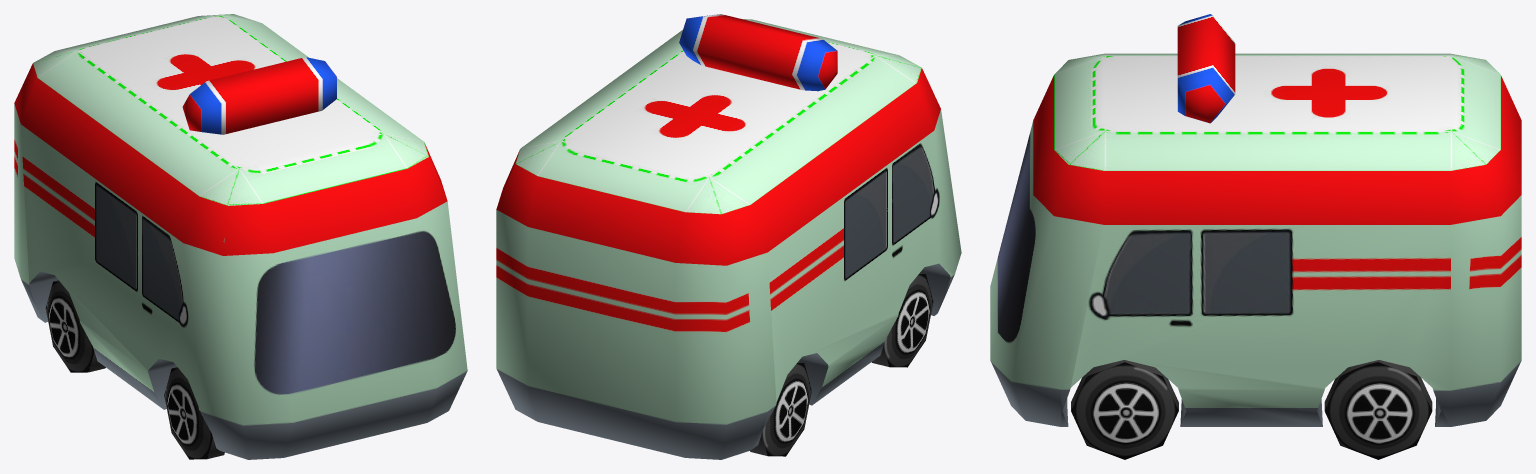
The model's file is Ambulance_001.FBX.
The picture shows the model from 3 angles, left to right: view 1: azimuth 30°, elevation 25°; view 2: azimuth 150°, elevation 25°; view 3: azimuth 270°, elevation 25°; orthographic projection. The views are drawn at different scales.
Parts seen in each view (by area): view 1: ChamferBox001, Capsule001, OilTank001, OilTank002; view 2: ChamferBox001, Capsule001, OilTank002, OilTank001; view 3: ChamferBox001, OilTank004, OilTank003, Capsule001.
Boxes of the visible parts, left/top/right/bottom form: ChamferBox001: left=14, top=14, right=467, bottom=459; Capsule001: left=182, top=57, right=336, bottom=134; OilTank001: left=164, top=367, right=224, bottom=459; OilTank002: left=45, top=280, right=105, bottom=372; ChamferBox001: left=496, top=19, right=961, bottom=459; Capsule001: left=679, top=14, right=837, bottom=91; OilTank002: left=750, top=361, right=811, bottom=456; OilTank001: left=871, top=272, right=933, bottom=367; ChamferBox001: left=990, top=53, right=1521, bottom=426; OilTank004: left=1324, top=360, right=1432, bottom=459; OilTank003: left=1071, top=360, right=1178, bottom=459; Capsule001: left=1177, top=14, right=1235, bottom=123.
Size of the model in its own units: 1.2 by 1.48 by 2.
Materials: 1 (1 with a texture image).
